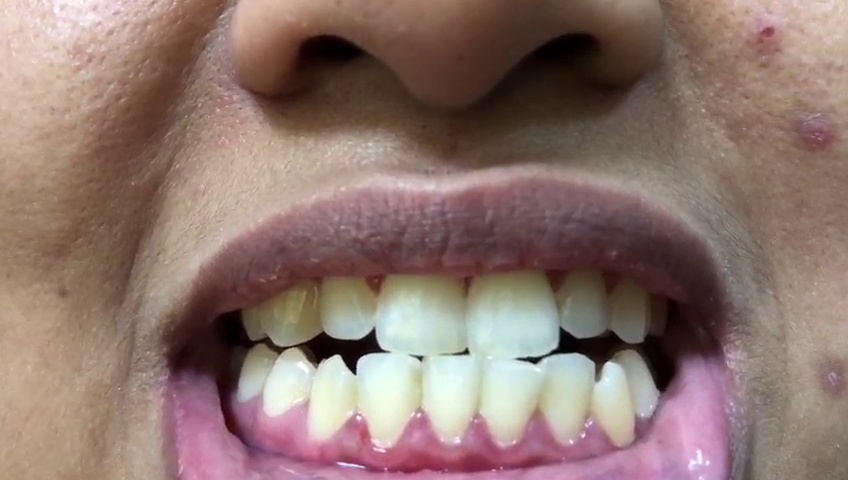1st Premolar: (263, 348, 315, 419), (618, 349, 660, 417)
2nd Premolar: (234, 347, 276, 404)
Canine: (257, 269, 321, 348), (309, 353, 358, 444), (593, 362, 639, 451), (611, 269, 649, 342)
Central Incisor: (467, 257, 561, 359), (376, 254, 467, 355), (480, 356, 544, 448), (424, 353, 477, 450)
Lateral Incisor: (358, 351, 424, 451), (538, 352, 592, 448), (317, 257, 378, 341), (557, 270, 610, 339)
